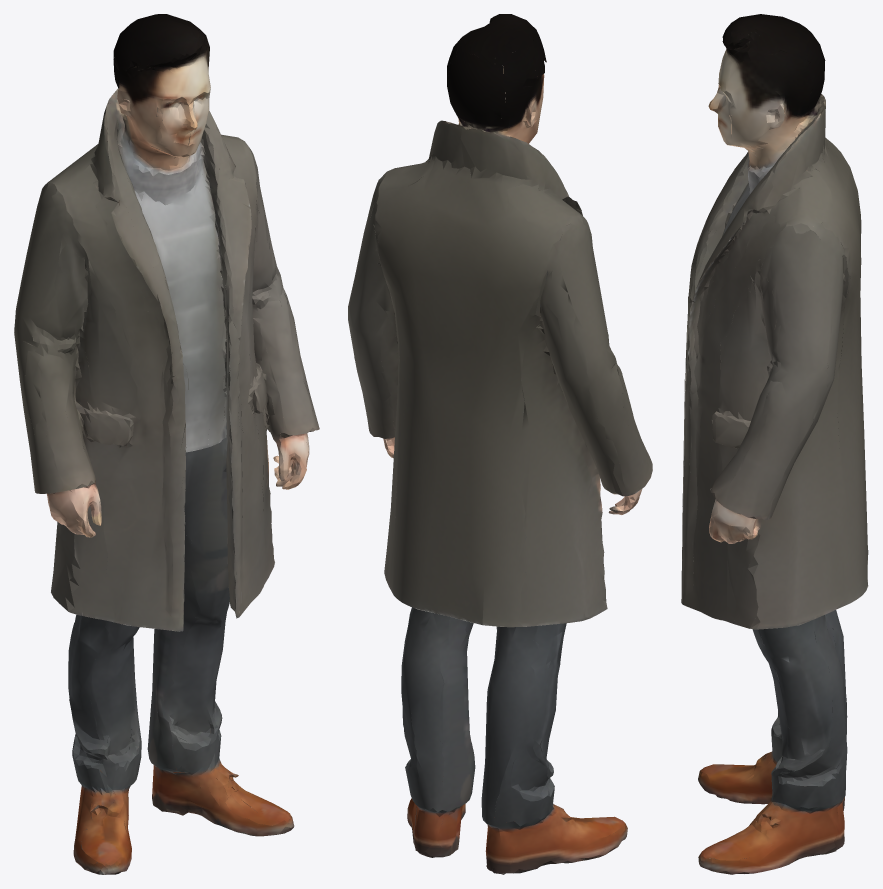
File: winter.glb
The picture shows the model from 3 angles, left to right: view 1: azimuth 30°, elevation 25°; view 2: azimuth 150°, elevation 25°; view 3: azimuth 270°, elevation 25°; orthographic projection.
Parts seen in each view (by area): view 1: Asian_Winter_Custom; view 2: Asian_Winter_Custom; view 3: Asian_Winter_Custom.
Boxes of the visible parts, x1,y1,x2,y2 form: Asian_Winter_Custom: (14, 14, 319, 874); Asian_Winter_Custom: (348, 14, 652, 874); Asian_Winter_Custom: (681, 14, 868, 874).
Bounding box in the file's own units: 0.6102 × 1.73 × 0.363.
1 material, 1 textured.
